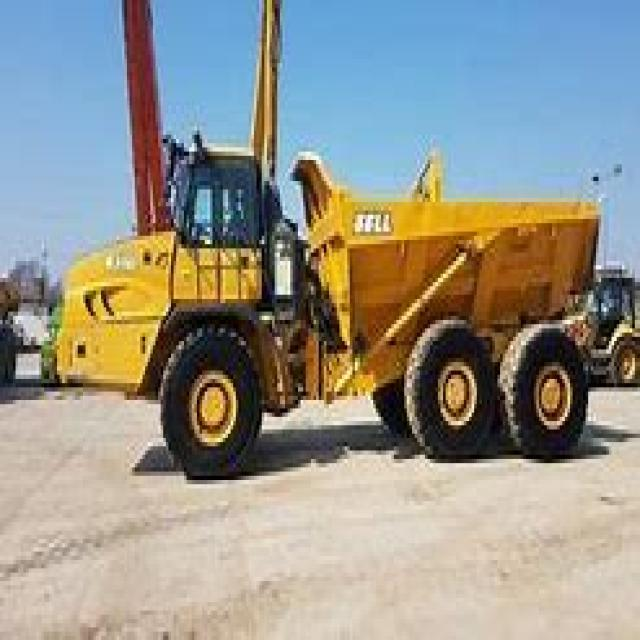dump_truck: (52, 114, 617, 472)
